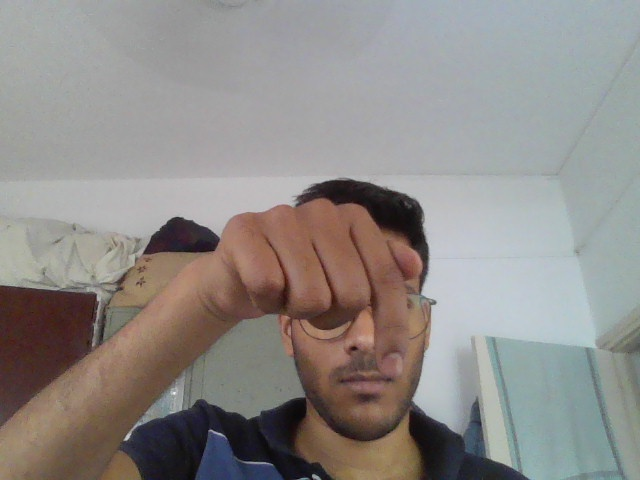yes: (212, 188, 433, 391)
